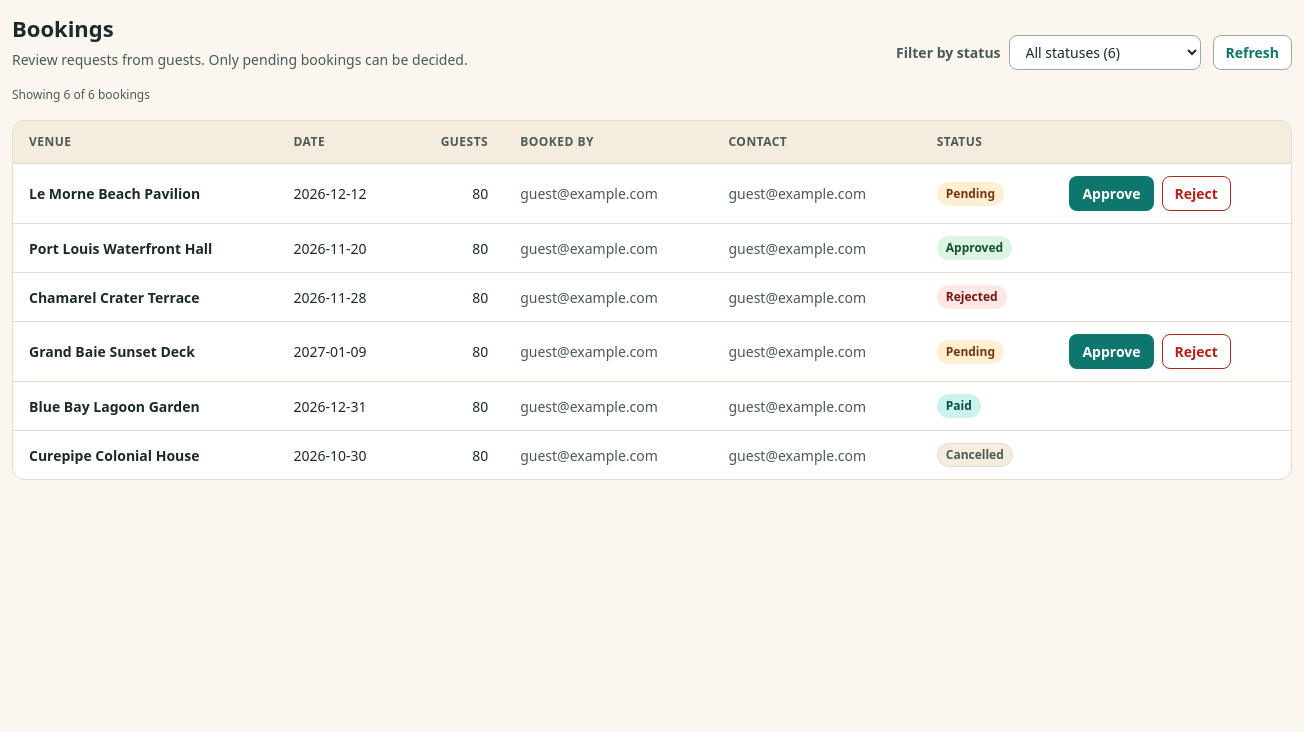
Scenario: BookingsPanel: approve / reject › rolls back on a network failure too
The width and height of the screenshot is (1304, 732).
Expected: the table is shown, [13,121,1291,479]
Click the button "Reject" in the row of "Le Morne Beach Pavilion".
click(1196, 194)  # box [1162,176,1231,211]
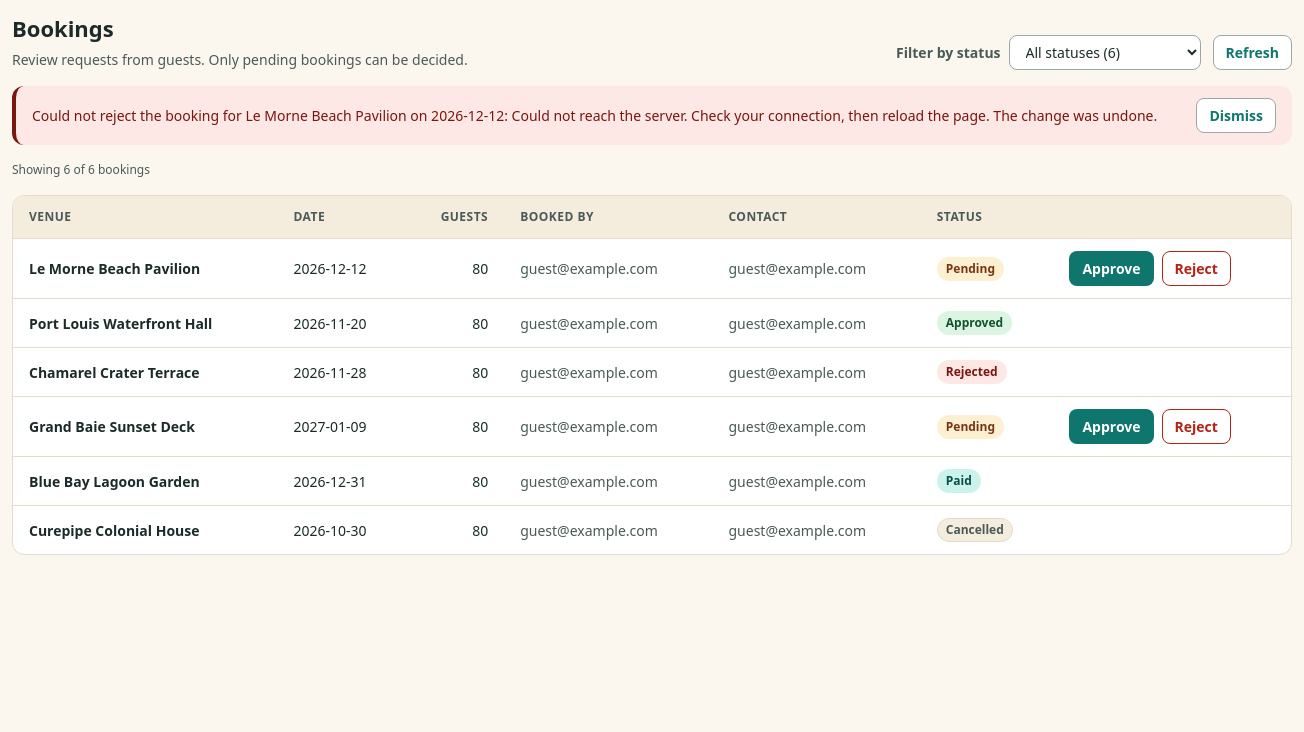
Expected: the 1st text "Pending" is shown, [937,256,1004,280]
Result: the 1st message shows "Could not reach the server" at [32,106,1157,125]
